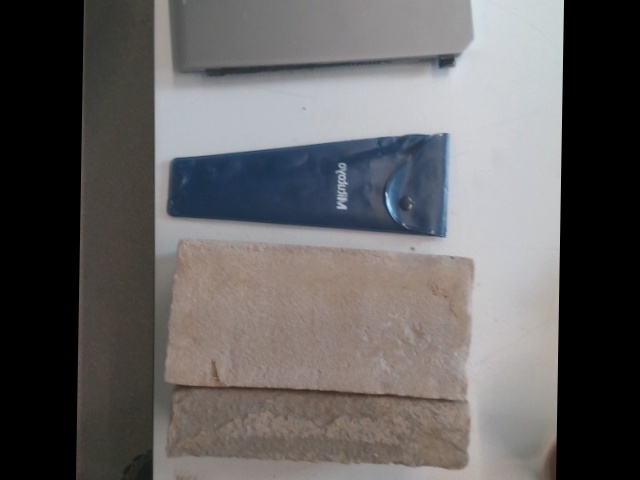brick: (173, 240, 468, 394)
